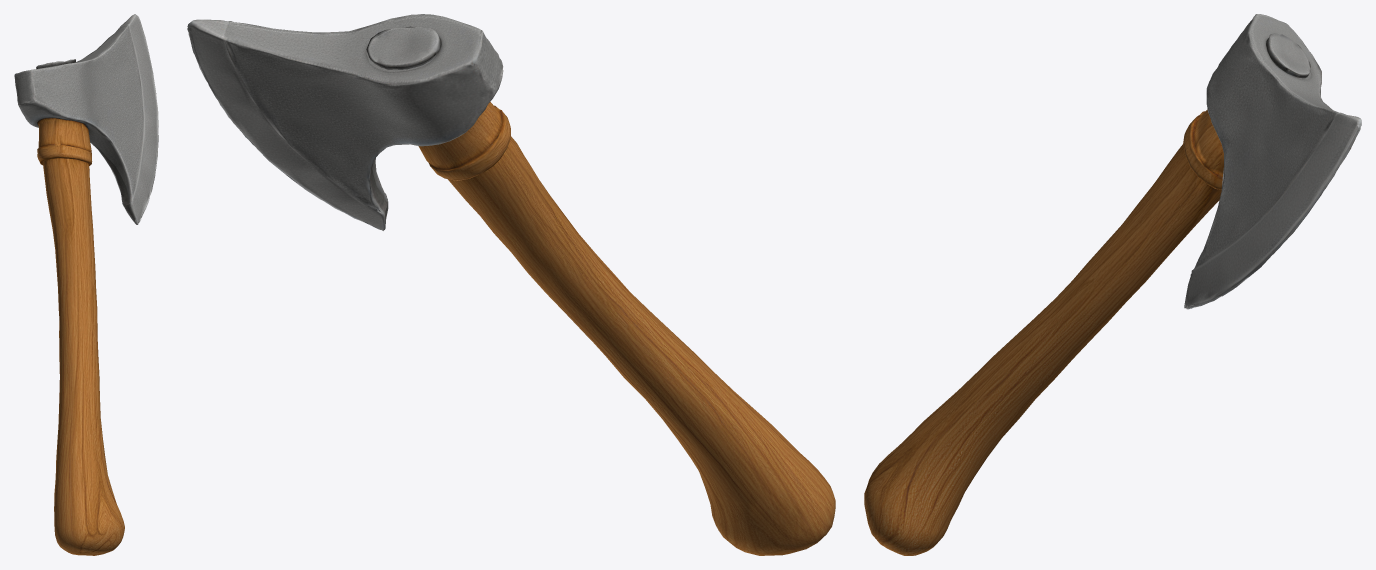
The model's file is axe+3d+model.glb.
3 renders of one model, left to right at view 1: azimuth 30°, elevation 25°; view 2: azimuth 150°, elevation 25°; view 3: azimuth 270°, elevation 25°, orthographic. The views are drawn at different scales.
Visible parts, largest first — view 1: tripo_node_4e509ee9-907b-4acb-a37e-510da5e6f637; view 2: tripo_node_4e509ee9-907b-4acb-a37e-510da5e6f637; view 3: tripo_node_4e509ee9-907b-4acb-a37e-510da5e6f637.
Boxes of the visible parts, left/top/right/bottom form: tripo_node_4e509ee9-907b-4acb-a37e-510da5e6f637: left=14, top=14, right=158, bottom=555; tripo_node_4e509ee9-907b-4acb-a37e-510da5e6f637: left=187, top=14, right=835, bottom=555; tripo_node_4e509ee9-907b-4acb-a37e-510da5e6f637: left=864, top=14, right=1361, bottom=555.
Size of the model in its own units: 0.6348 by 0.998 by 0.7832.
1 material, 1 textured.
